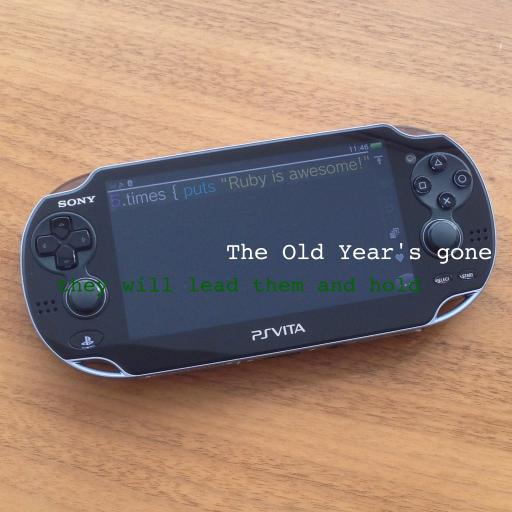Courier: (57, 277, 421, 296), (226, 243, 492, 264)
